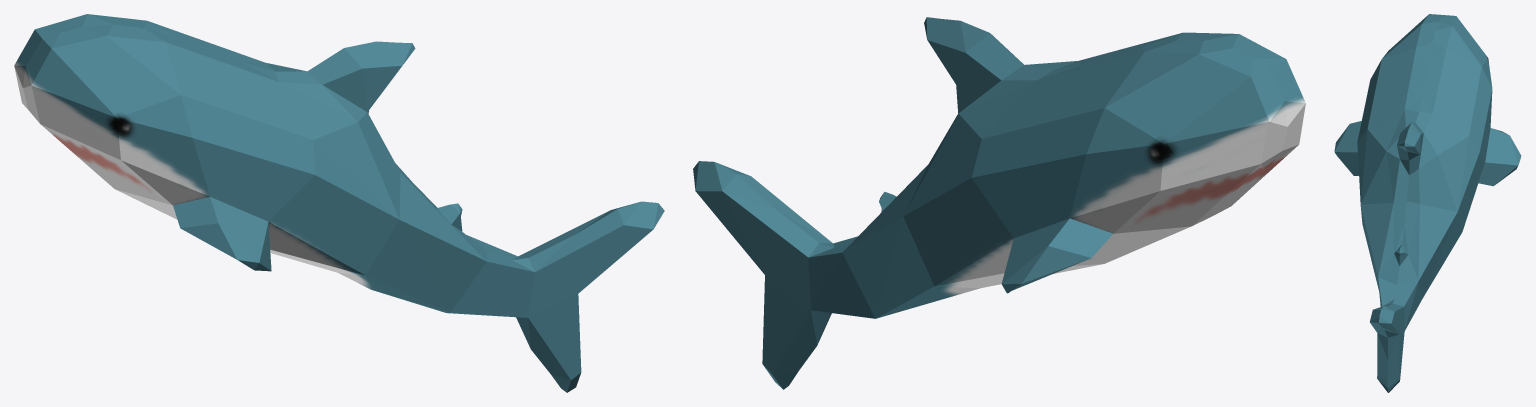
The model's file is mod.gltf.
3 renders of one model, left to right at view 1: azimuth 30°, elevation 25°; view 2: azimuth 150°, elevation 25°; view 3: azimuth 270°, elevation 25°, orthographic. The views are drawn at different scales.
Parts seen in each view (by area): view 1: Object_2; view 2: Object_2; view 3: Object_2.
Boxes of the visible parts, bbox=[...] form: Object_2: bbox=[14, 14, 664, 392]; Object_2: bbox=[693, 17, 1305, 389]; Object_2: bbox=[1334, 14, 1521, 392].
Bounding box in the file's own units: 3.26 × 2.34 × 1.59.
Materials: 1 (1 with a texture image).
